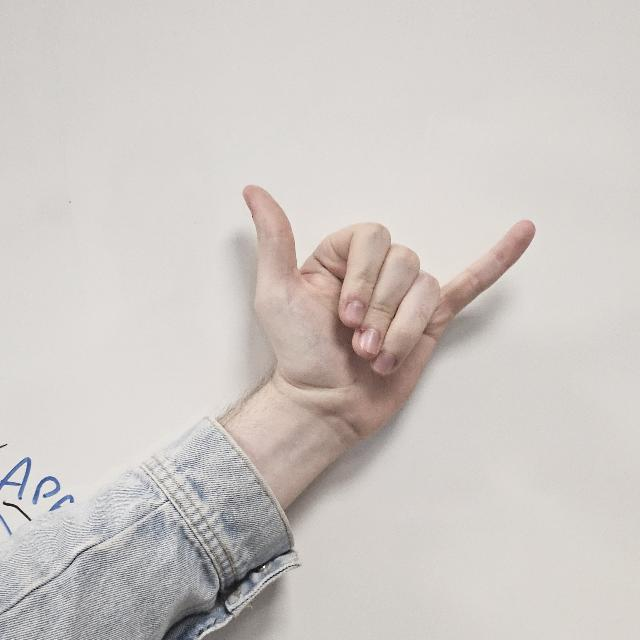Direita: (222, 164, 550, 434)
